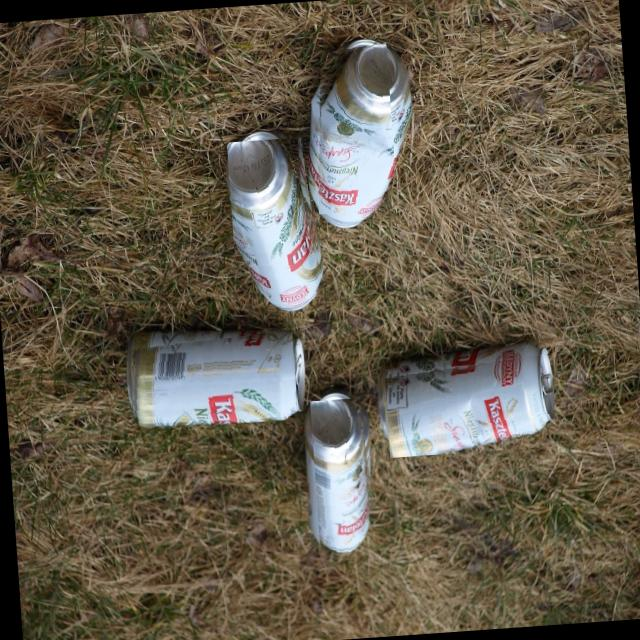Cans: (382, 351, 565, 456), (123, 328, 297, 429), (225, 134, 322, 302), (304, 39, 396, 212), (308, 396, 379, 562)
